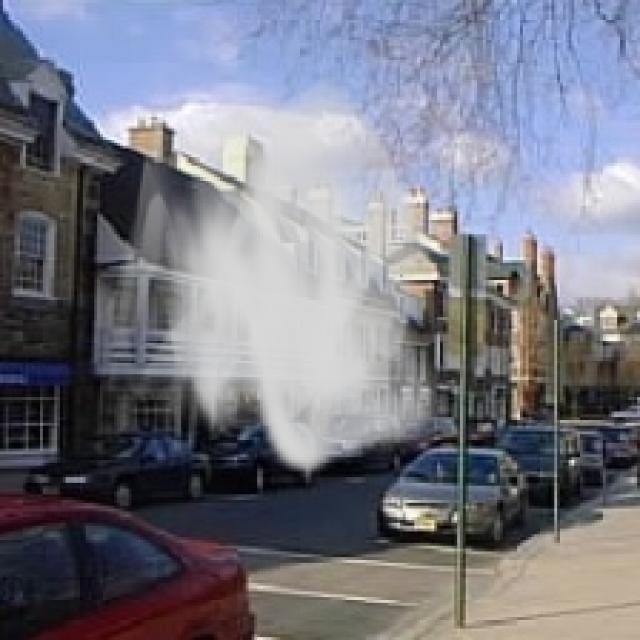smoke: (97, 69, 449, 477)
